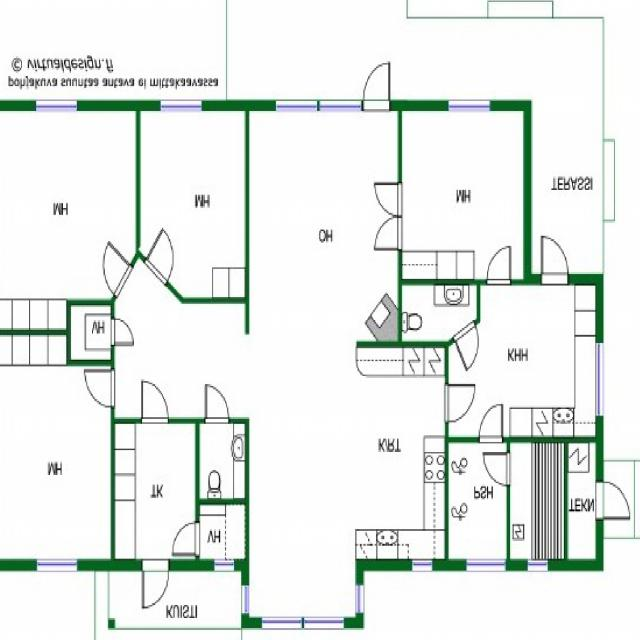door: (92, 242, 131, 297), (145, 230, 183, 285), (454, 321, 487, 370), (542, 237, 568, 285), (143, 560, 169, 606), (596, 482, 629, 518), (85, 370, 115, 408), (445, 384, 475, 422), (142, 381, 169, 423), (364, 65, 389, 110), (479, 402, 503, 442), (375, 216, 402, 249), (375, 183, 402, 216), (483, 452, 510, 485), (487, 246, 510, 284), (207, 386, 229, 424), (174, 522, 199, 554), (112, 319, 134, 346)
